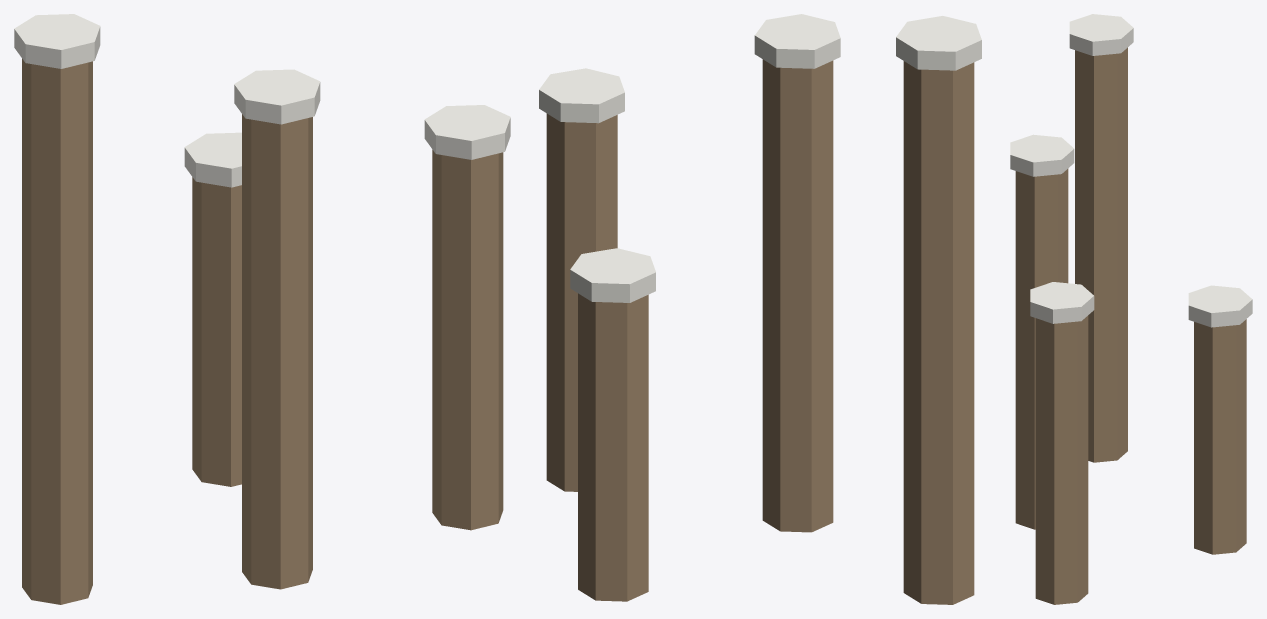
File: ocean__piles.fbx
3 renders of one model, left to right at view 1: azimuth 30°, elevation 25°; view 2: azimuth 150°, elevation 25°; view 3: azimuth 270°, elevation 25°, orthographic. The views are drawn at different scales.
Visible parts, largest first — view 1: ocean__piles; view 2: ocean__piles; view 3: ocean__piles.
Part boxes in pixels (x1,y1,x2,y2): ocean__piles: (14, 14, 510, 604); ocean__piles: (539, 14, 981, 604); ocean__piles: (1010, 14, 1252, 604).
Size of the model in its own units: 2.03 by 2.36 by 1.22.
